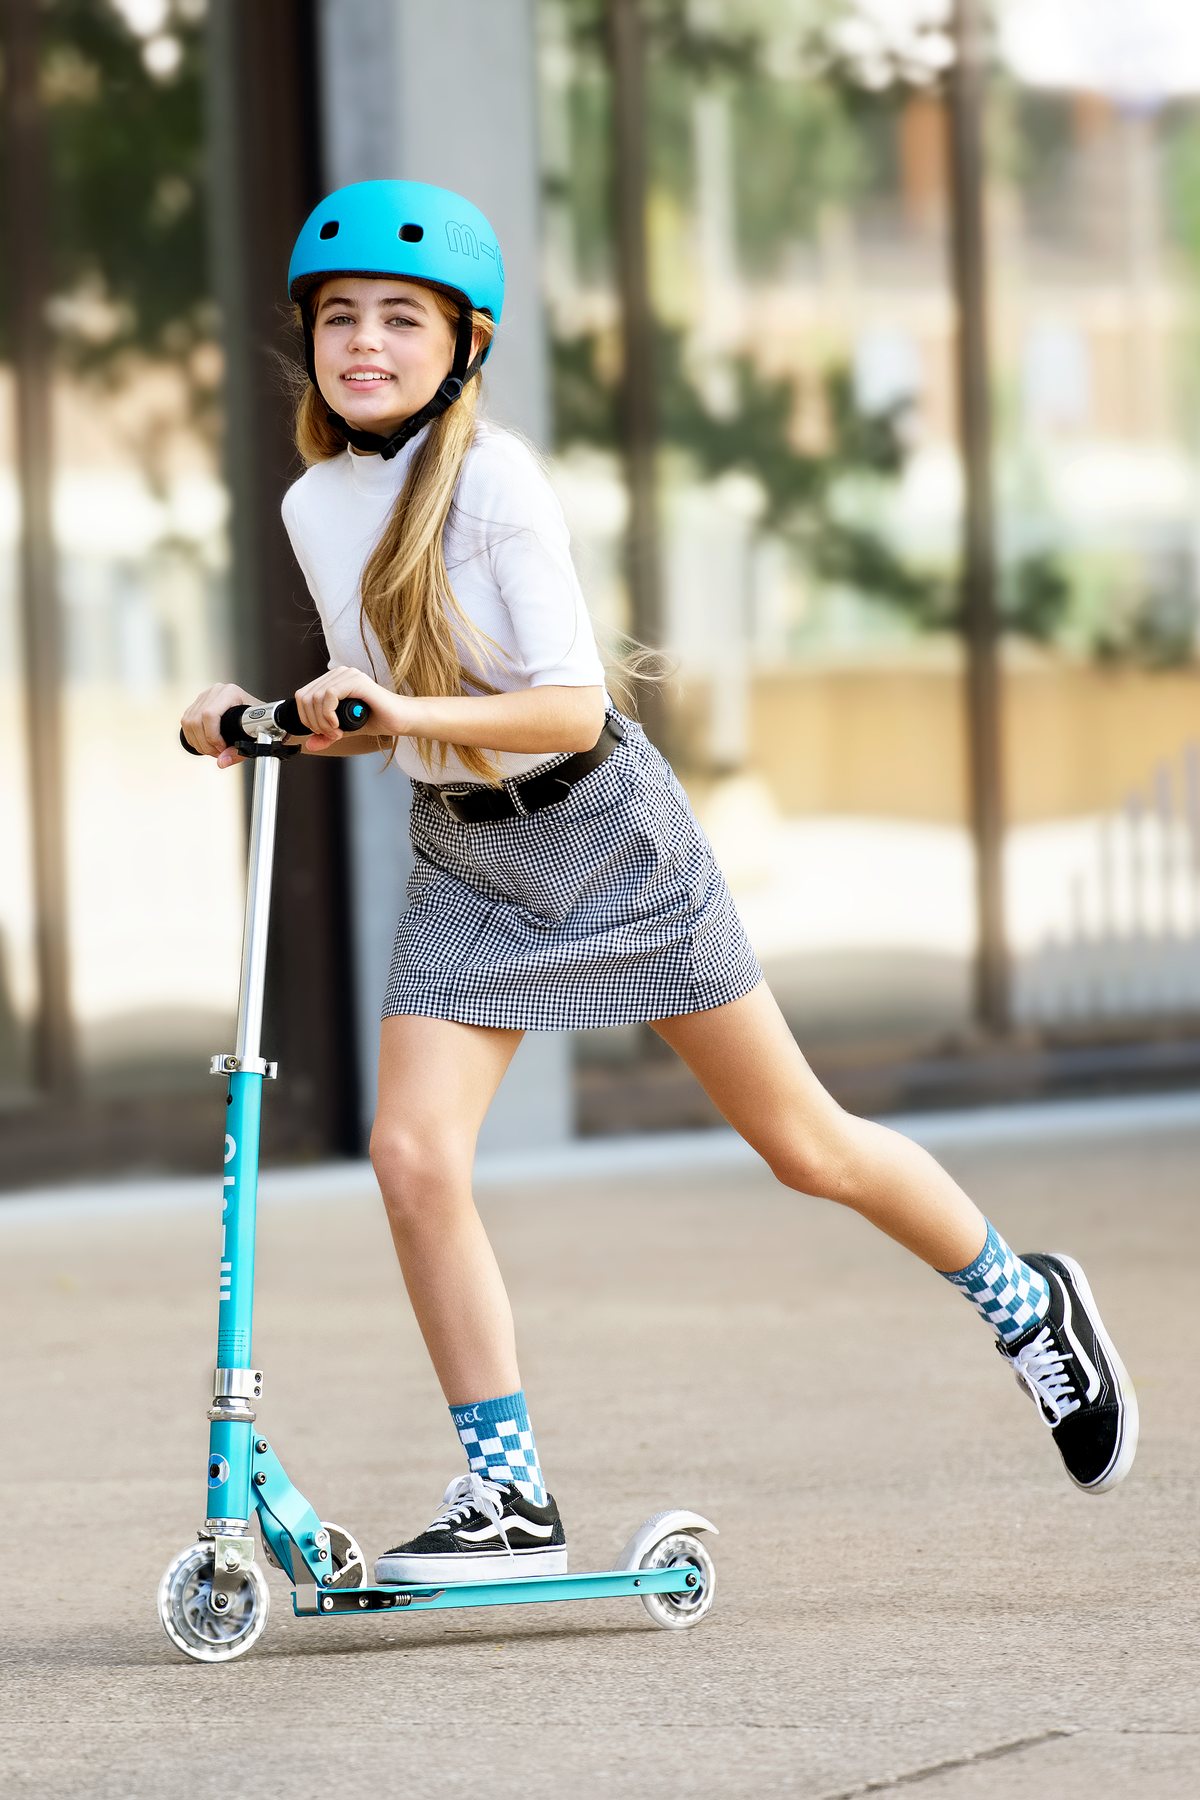scooter: (161, 688, 722, 1671)
with helmet: (287, 175, 502, 449)
